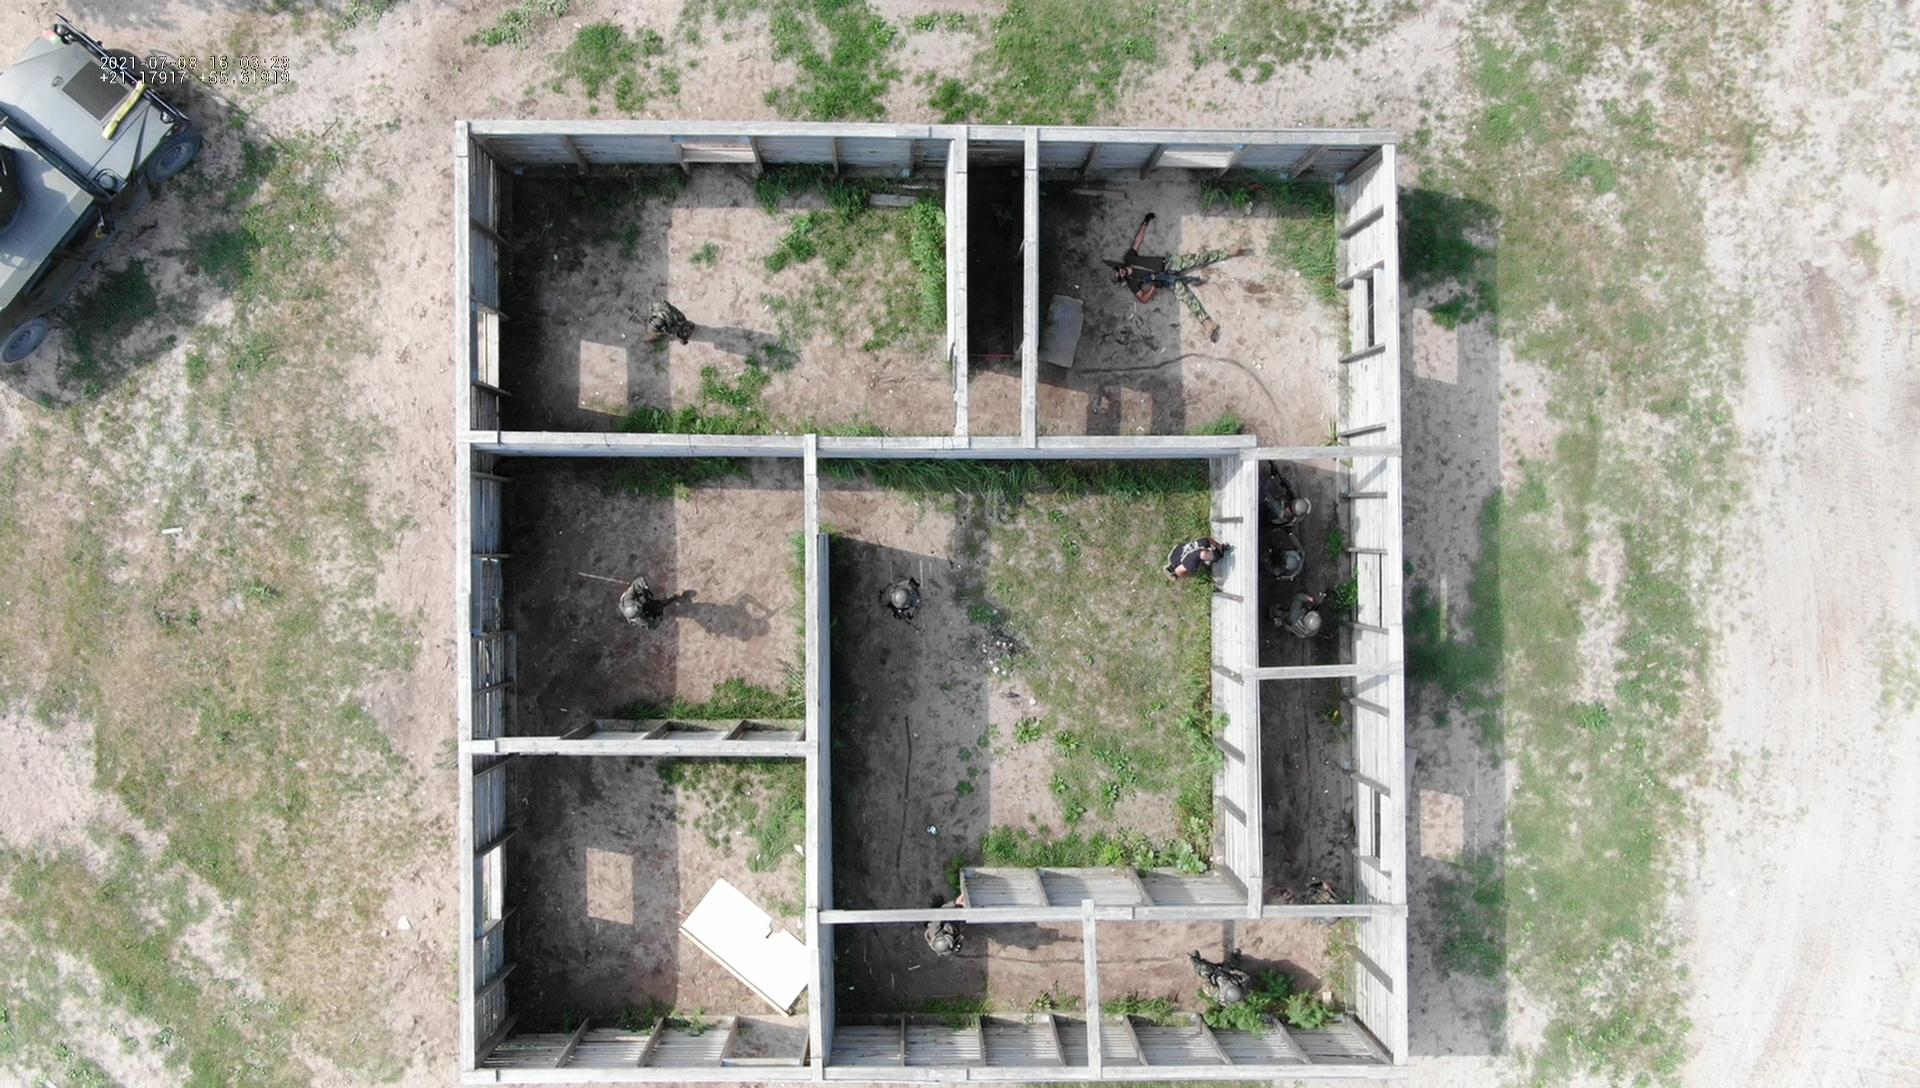Soldier: (1109, 203, 1261, 344), (597, 571, 676, 654), (1184, 943, 1271, 1015), (629, 291, 705, 371), (1255, 466, 1313, 550), (1279, 578, 1333, 645), (876, 570, 928, 629), (1172, 531, 1229, 586), (1265, 547, 1313, 607), (916, 919, 964, 964)
